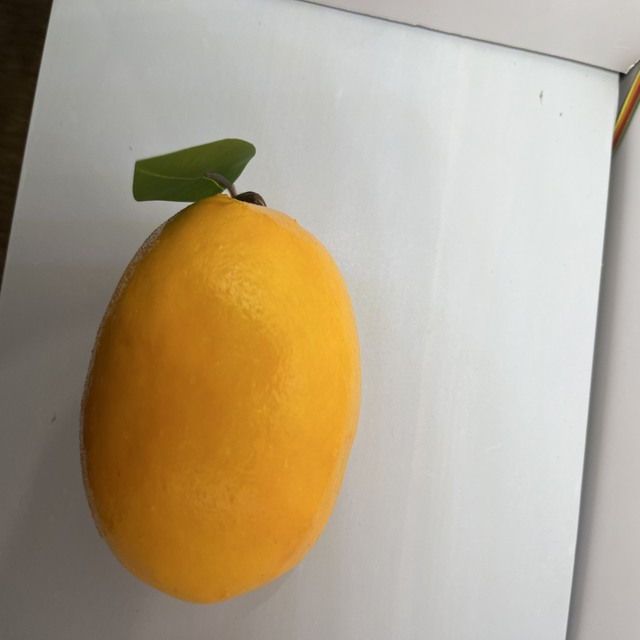Cam vang: (73, 166, 365, 609)
